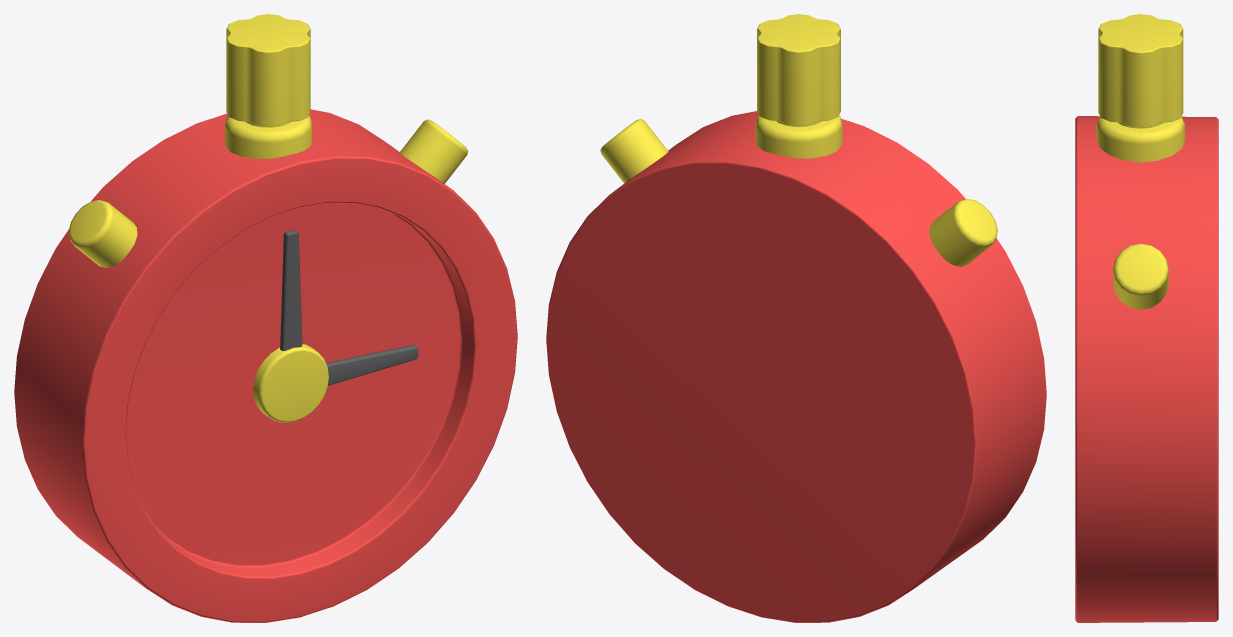
File: Public_18_Stopwatch_1.glb
3 views of the same model, side by side, from view 1: azimuth 30°, elevation 25°; view 2: azimuth 150°, elevation 25°; view 3: azimuth 270°, elevation 25° (orthographic).
Visible parts, largest first — view 1: Public_18_Stopwatch_1; view 2: Public_18_Stopwatch_1; view 3: Public_18_Stopwatch_1.
Part boxes in pixels (x1=…): Public_18_Stopwatch_1: x1=14, y1=14, x2=517, y2=622; Public_18_Stopwatch_1: x1=546, y1=14, x2=1046, y2=622; Public_18_Stopwatch_1: x1=1075, y1=14, x2=1218, y2=622.
Size of the model in its own units: 2.01 by 2.48 by 0.5697.
Materials: 1 (1 with a texture image).
